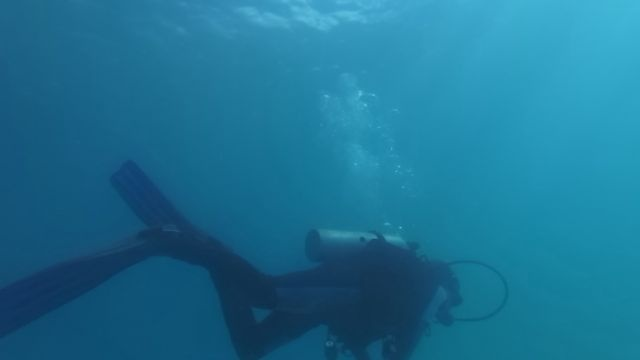Diver: (6, 155, 472, 357)
